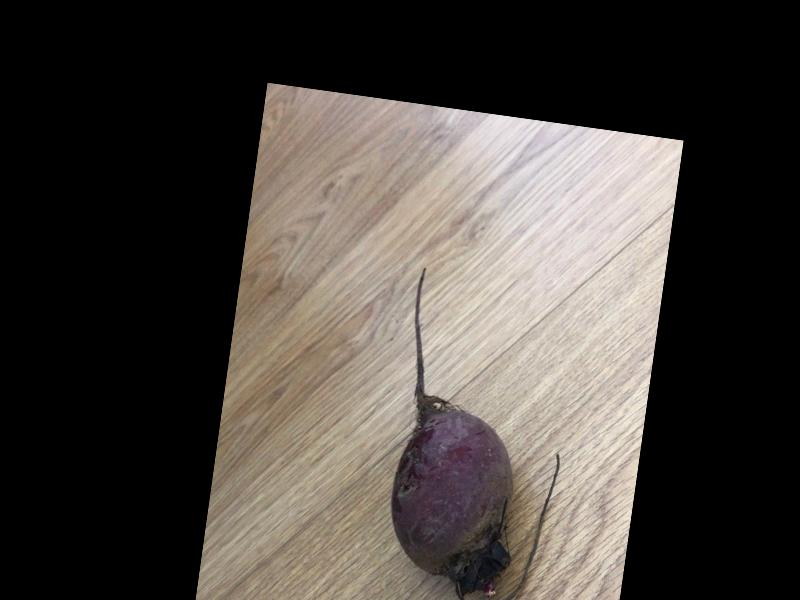Beet: (374, 266, 583, 600)
